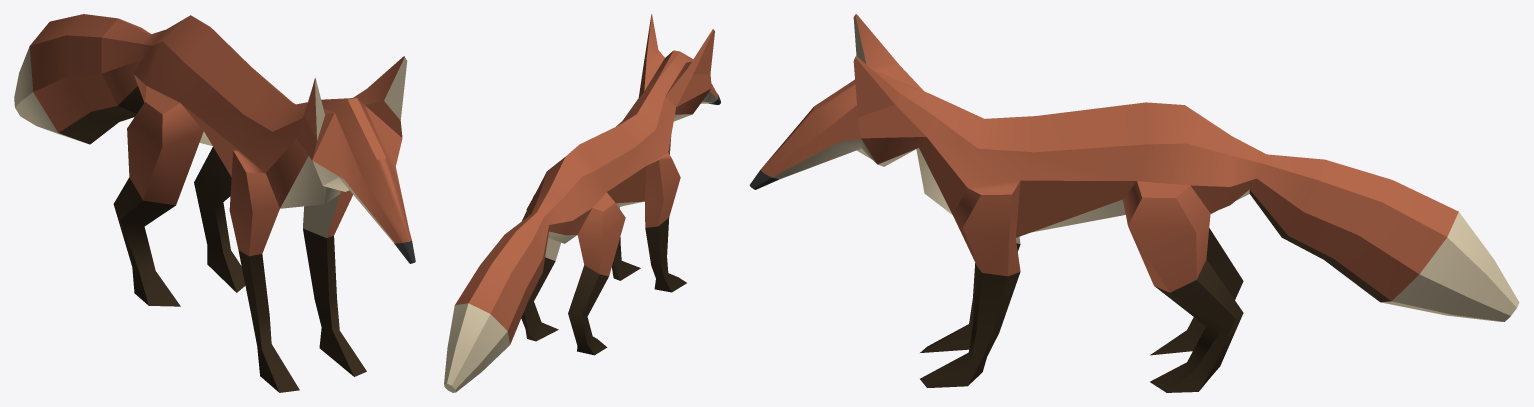
The model's file is foxrunning5.fbx.
The picture shows the model from 3 angles, left to right: view 1: azimuth 30°, elevation 25°; view 2: azimuth 150°, elevation 25°; view 3: azimuth 270°, elevation 25°; orthographic projection. The views are drawn at different scales.
Parts seen in each view (by area): view 1: pCylinder3; view 2: pCylinder3; view 3: pCylinder3.
Boxes of the visible parts, box(x1,y1,x2,y2) form: pCylinder3: box(14, 14, 415, 392); pCylinder3: box(444, 14, 720, 392); pCylinder3: box(749, 14, 1519, 392).
Size of the model in its own units: 4.54 by 12.89 by 26.97.
